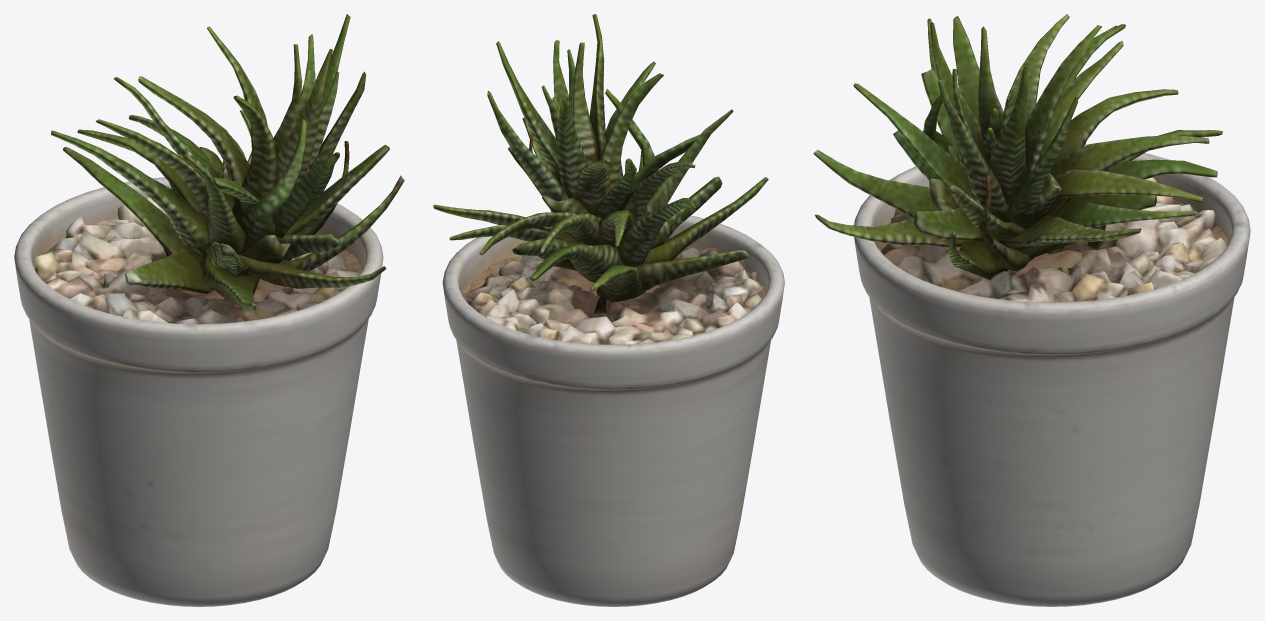
File: potted-plant-04-low.glb
3 views of the same model, side by side, from view 1: azimuth 30°, elevation 25°; view 2: azimuth 150°, elevation 25°; view 3: azimuth 270°, elevation 25° (orthographic). The views are drawn at different scales.
Visible parts, largest first — view 1: potted_plant_04_pot, potted_plant_04_plant, potted_plant_04_ground, potted_plant_04_dirt; view 2: potted_plant_04_pot, potted_plant_04_plant, potted_plant_04_ground, potted_plant_04_dirt; view 3: potted_plant_04_pot, potted_plant_04_plant, potted_plant_04_ground, potted_plant_04_dirt.
Boxes of the visible parts, x1,y1,x2,y2 form: potted_plant_04_pot: (14,177,383,606); potted_plant_04_plant: (51,14,404,311); potted_plant_04_ground: (34,196,358,324); potted_plant_04_dirt: (34,238,362,307); potted_plant_04_pot: (442,215,784,606); potted_plant_04_plant: (433,14,768,314); potted_plant_04_ground: (462,247,765,344); potted_plant_04_dirt: (462,247,765,306); potted_plant_04_pot: (854,144,1250,606); potted_plant_04_plant: (813,14,1222,279); potted_plant_04_ground: (881,177,1227,302); potted_plant_04_dirt: (875,200,1228,297).
Size of the model in its own units: 0.168 by 0.2675 by 0.1848.
Materials: 1 (1 with a texture image).
